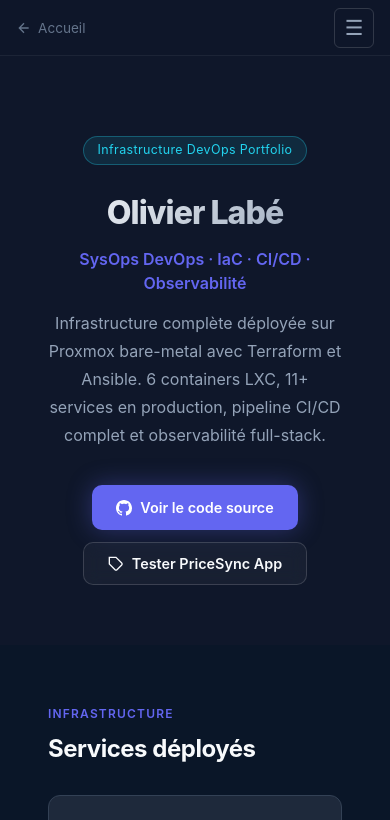
Test case: PortfolioPage › ferme le menu portfolio au second clic sur hamburger
Step 1. Click the button with test id "port-hamburger" → click(354, 28), box [334,8,374,48]
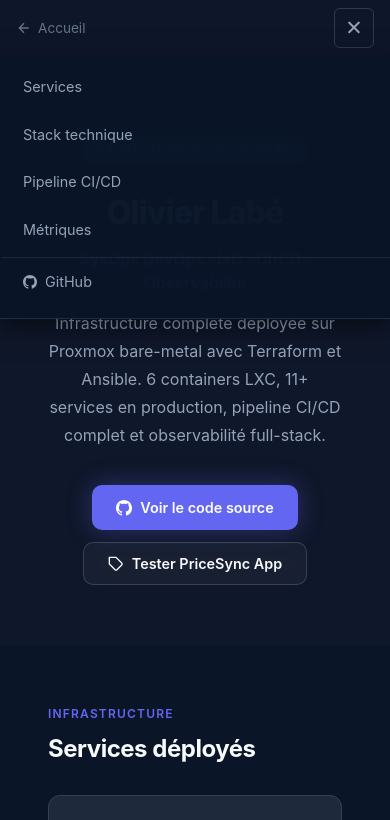
Step 2. Click the button with test id "port-hamburger" → click(354, 28), box [334,8,374,48]
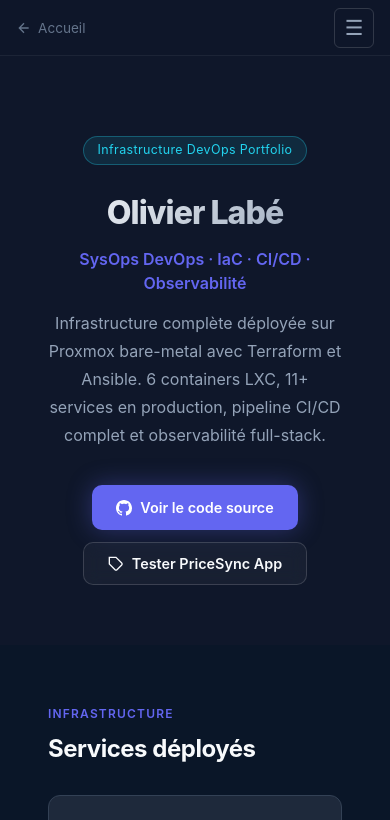
Expected: the button with test id "port-hamburger" is collapsed, [334,8,374,48]
